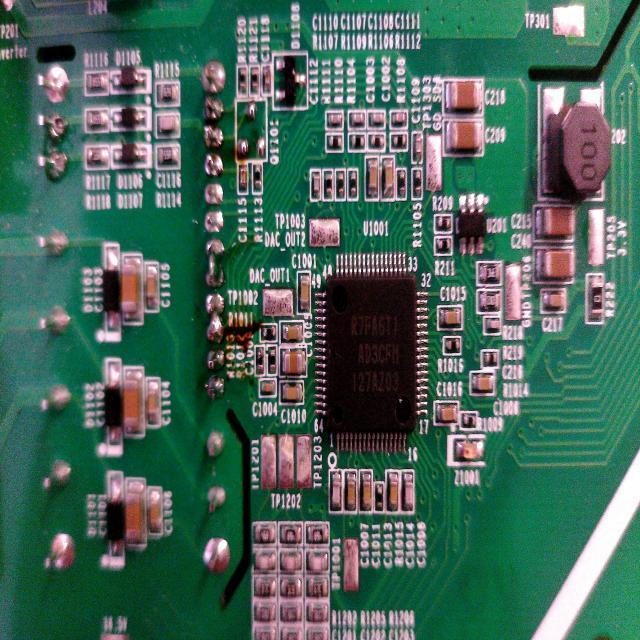Soldering shorted: (204, 292, 227, 348), (204, 238, 224, 292)
